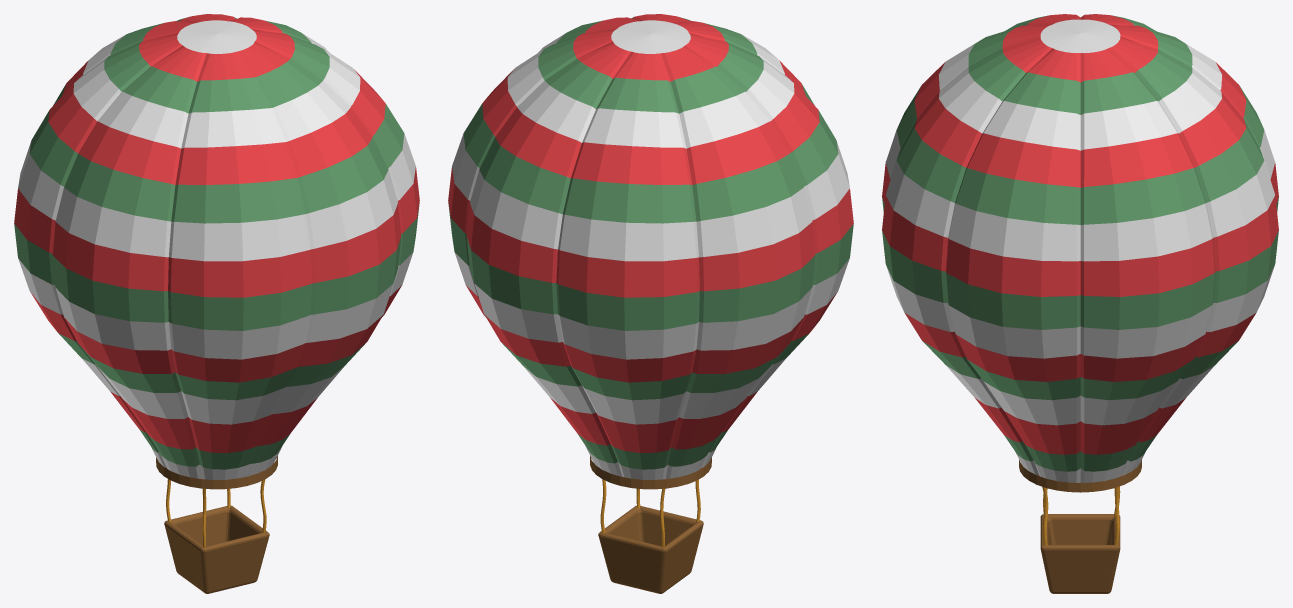
File: hotAirBalloon.glb
3 renders of one model, left to right at view 1: azimuth 30°, elevation 25°; view 2: azimuth 150°, elevation 25°; view 3: azimuth 270°, elevation 25°, orthographic.
Parts seen in each view (by area): view 1: Sphere, Cube, Circle, rope; view 2: Sphere, Cube, Circle, rope; view 3: Sphere, Cube, Circle, rope.
Part boxes in pixels (x1,y1,x2,y2): Sphere: (14,14,419,479); Cube: (164,505,269,593); Circle: (156,456,277,489); rope: (166,479,266,547); Sphere: (448,14,853,479); Cube: (598,505,703,593); Circle: (590,456,711,489); rope: (600,479,700,547); Sphere: (882,14,1278,482); Cube: (1040,514,1120,593); Circle: (1019,460,1141,492); rope: (1042,486,1120,545).
Size of the model in its own units: 2.48 by 3.78 by 2.48.
